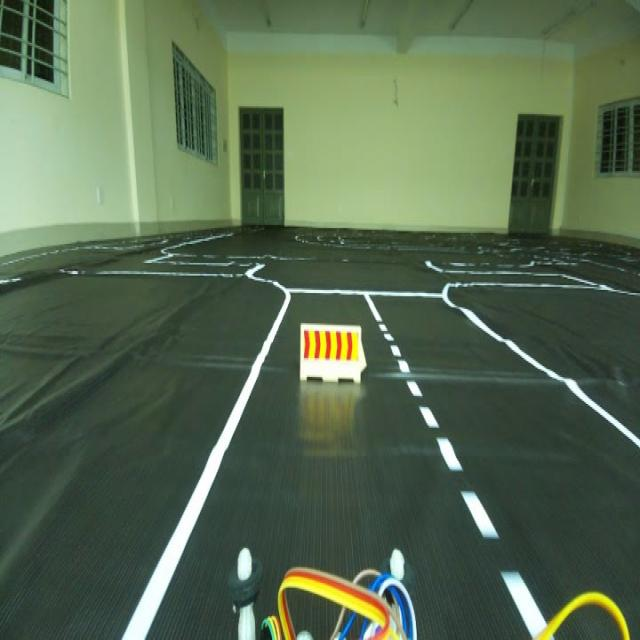roadblock: (289, 315, 374, 411)
